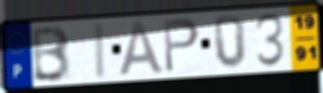0: (212, 14, 248, 72)
3: (254, 12, 286, 68)
A: (117, 21, 167, 78)
B: (32, 24, 73, 84)
I: (92, 21, 109, 81)
P: (161, 16, 202, 75)
